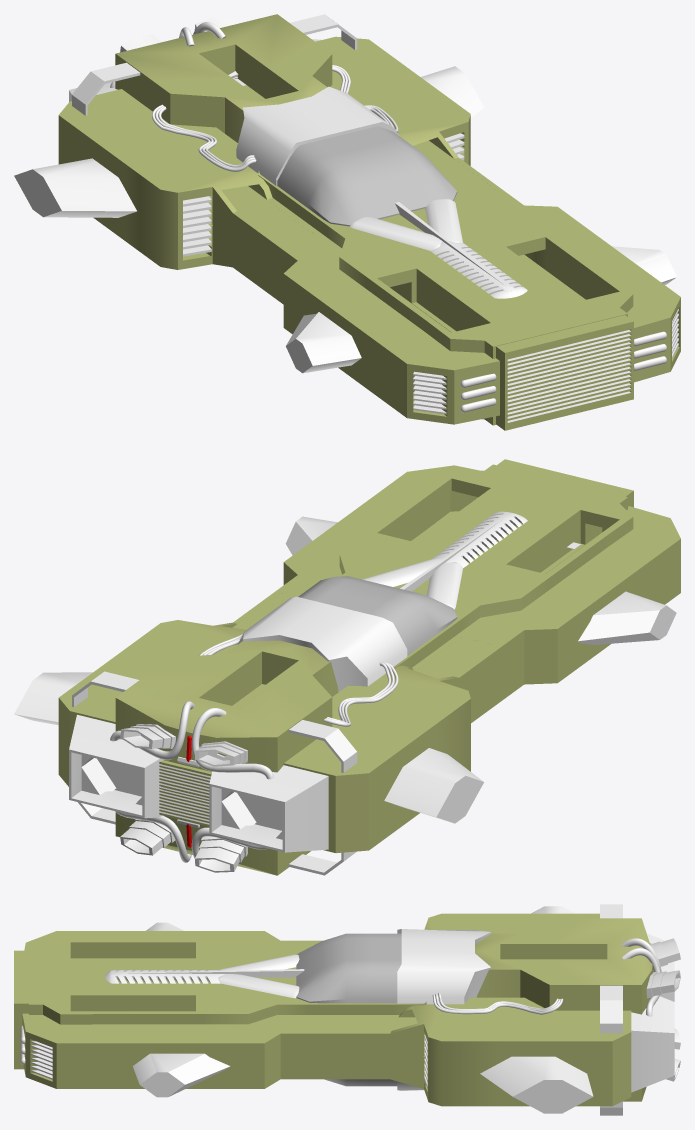
The model's file is rollerbody1.fbx.
The picture shows the model from 3 angles, top to bottom: view 1: azimuth 30°, elevation 25°; view 2: azimuth 150°, elevation 25°; view 3: azimuth 270°, elevation 25°; orthographic projection. The views are drawn at different scales.
Visible parts, largest first — view 1: Hood.1; view 2: Hood.1; view 3: Hood.1.
Boxes of the visible parts, x1,y1,x2,y2 form: Hood.1: [14, 14, 680, 430]; Hood.1: [14, 459, 680, 875]; Hood.1: [14, 904, 680, 1115].
Bounding box in the file's own units: 655 × 234 × 1065.
